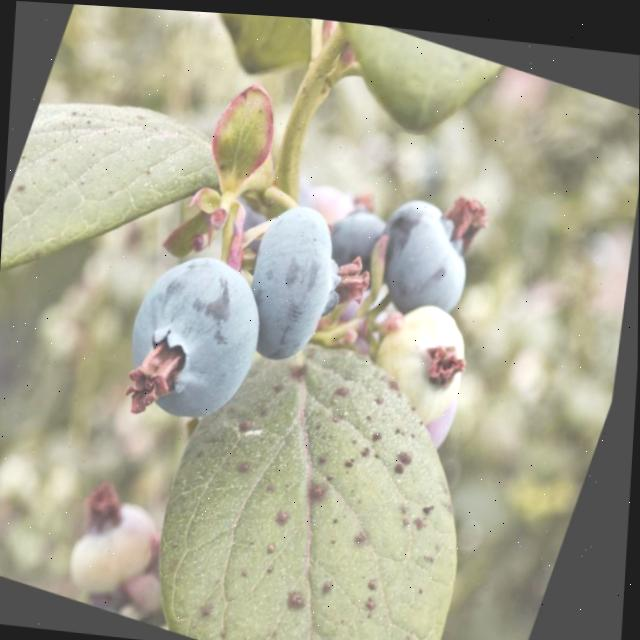RipeBlueBerry: (115, 235, 288, 433), (228, 189, 370, 375)
UnripeBlueBerry: (367, 286, 493, 428)
